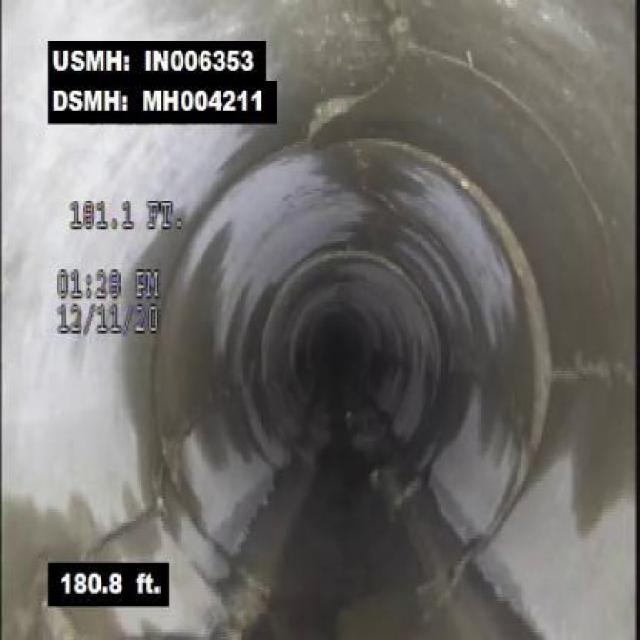Buckling: (297, 34, 409, 144)
Crack: (78, 466, 190, 563)
Joint offset: (480, 168, 558, 508)
